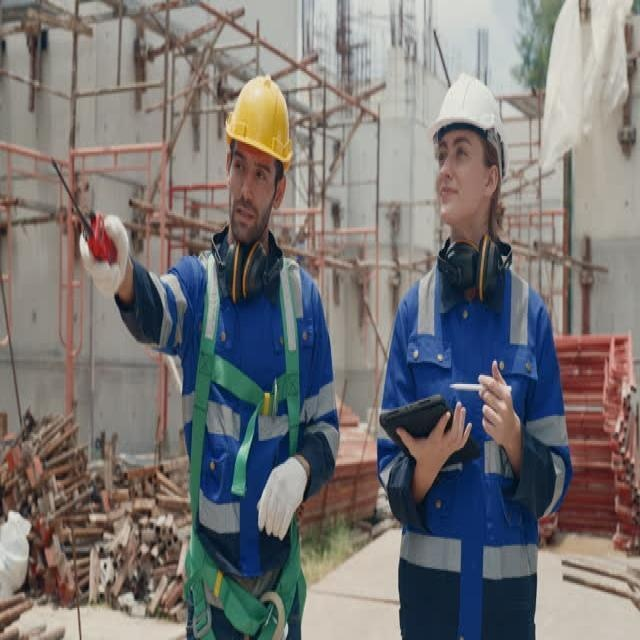Arnes_seguridad: (181, 259, 305, 640)
